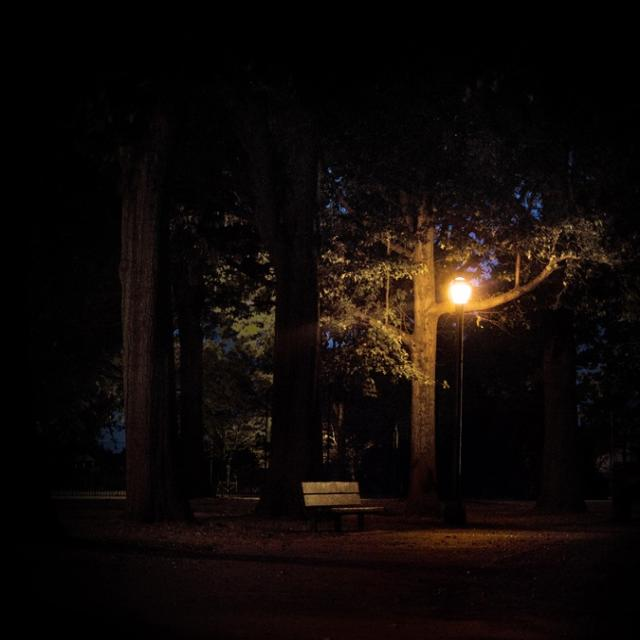chair: (290, 433, 378, 557)
